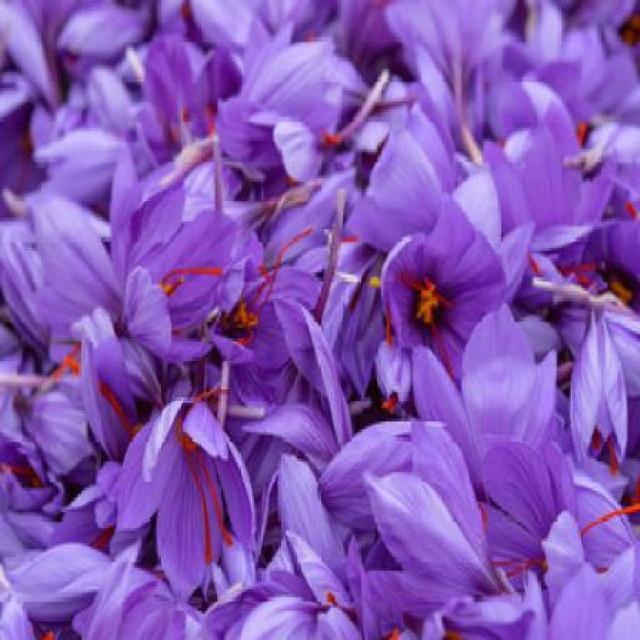Flower: (343, 406, 512, 614), (113, 389, 264, 585), (367, 224, 511, 384), (110, 178, 238, 347)
stigma: (256, 224, 322, 315), (173, 434, 217, 564), (192, 449, 239, 547), (575, 500, 640, 541), (424, 320, 464, 382), (157, 262, 230, 288)
